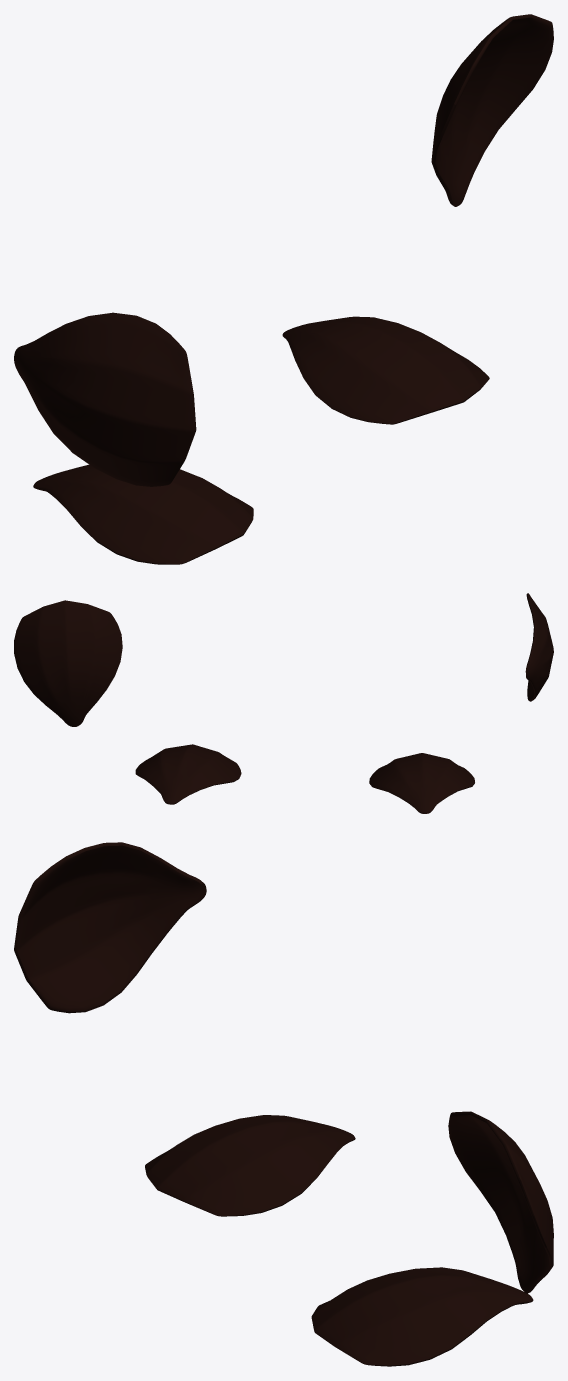
3 renders of one model, top to bottom at view 1: azimuth 30°, elevation 25°; view 2: azimuth 150°, elevation 25°; view 3: azimuth 270°, elevation 25°, orthographic. The views are drawn at different scales.
Visible parts, largest first — view 1: feet_decor.004, hand_decor_001, hand_decor; view 2: hand_decor, feet_decor.004, hand_decor_001; view 3: feet_decor.004, hand_decor_001, hand_decor.
Boxes of the visible parts, bbox=[...] form: feet_decor.004: bbox=[33, 316, 489, 564]; hand_decor_001: bbox=[14, 312, 196, 486]; hand_decor: bbox=[431, 14, 553, 206]; hand_decor: bbox=[14, 600, 122, 726]; feet_decor.004: bbox=[135, 744, 474, 813]; hand_decor_001: bbox=[525, 593, 553, 701]; feet_decor.004: bbox=[145, 1115, 533, 1366]; hand_decor_001: bbox=[14, 842, 206, 1013]; hand_decor: bbox=[448, 1111, 553, 1293].
Size of the model in its own units: 131 by 89.1 by 52.15.
